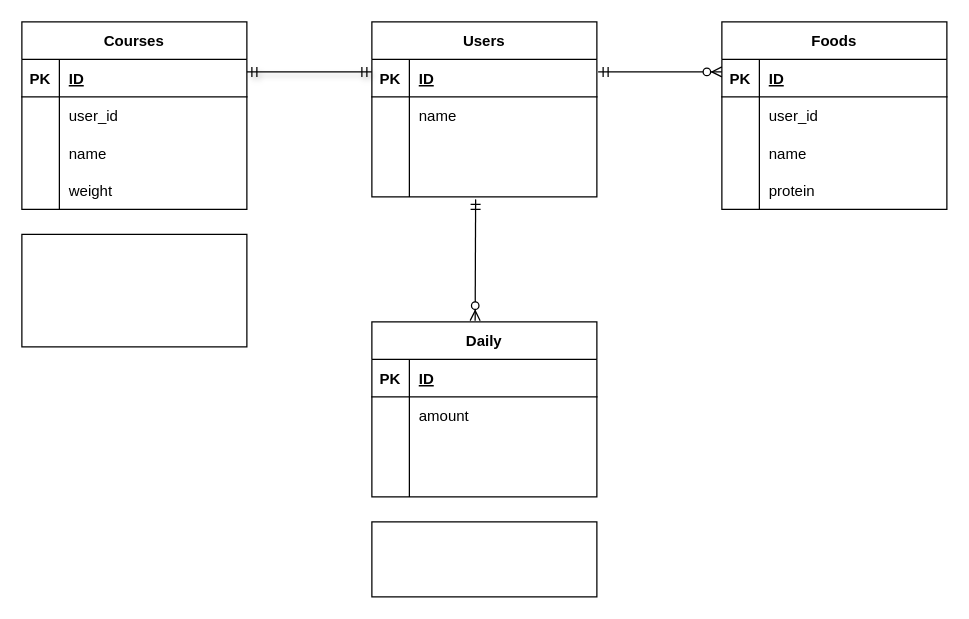
Image size: 969x619. Some labels were removed from this diagram. Here are the shapes that lost their labels. From the top down, the centre of each, then its label:
At (134,290): "コーステーブルには ユーザーの外部キー コース名 ユーザーの体重".
At (484,559): "1日のタンパク質摂取量 amount=量".
